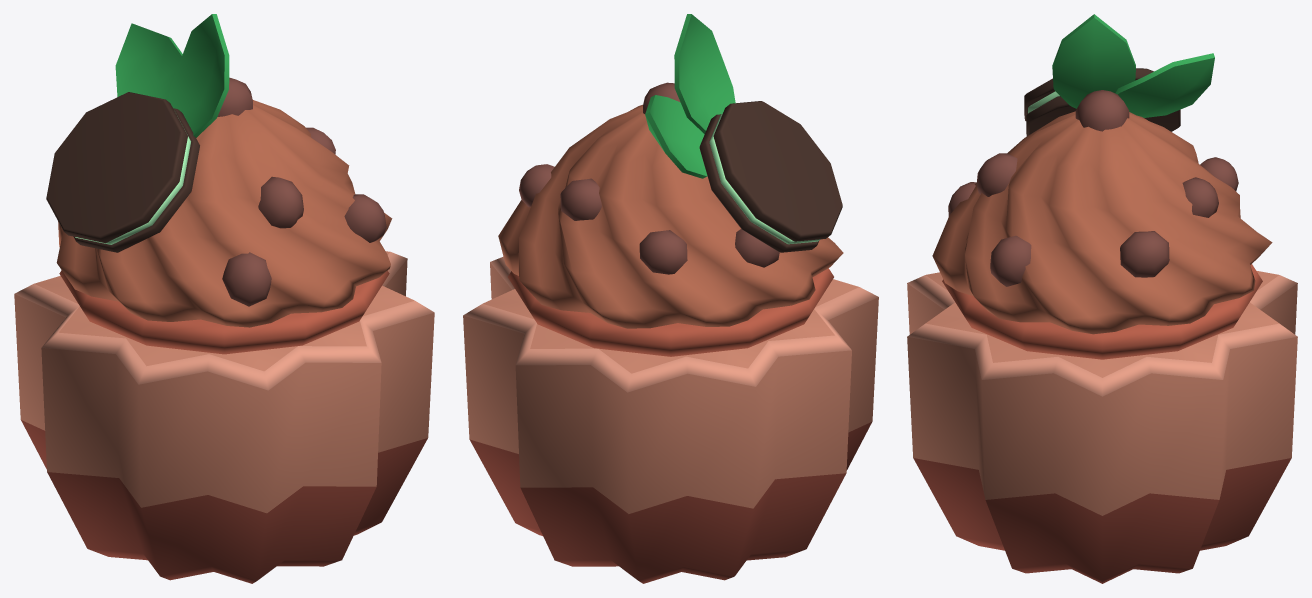
The model's file is IceCreamSocola.fbx.
3 renders of one model, left to right at view 1: azimuth 30°, elevation 25°; view 2: azimuth 150°, elevation 25°; view 3: azimuth 270°, elevation 25°, orthographic. The views are drawn at different scales.
Parts seen in each view (by area): view 1: Map02_Kem_LV2; view 2: Map02_Kem_LV2; view 3: Map02_Kem_LV2.
Boxes of the visible parts, x1=… form: Map02_Kem_LV2: x1=14, y1=14, x2=434, y2=583; Map02_Kem_LV2: x1=463, y1=14, x2=878, y2=583; Map02_Kem_LV2: x1=907, y1=14, x2=1297, y2=583.
Size of the model in its own units: 56.14 by 76.46 by 53.4.
